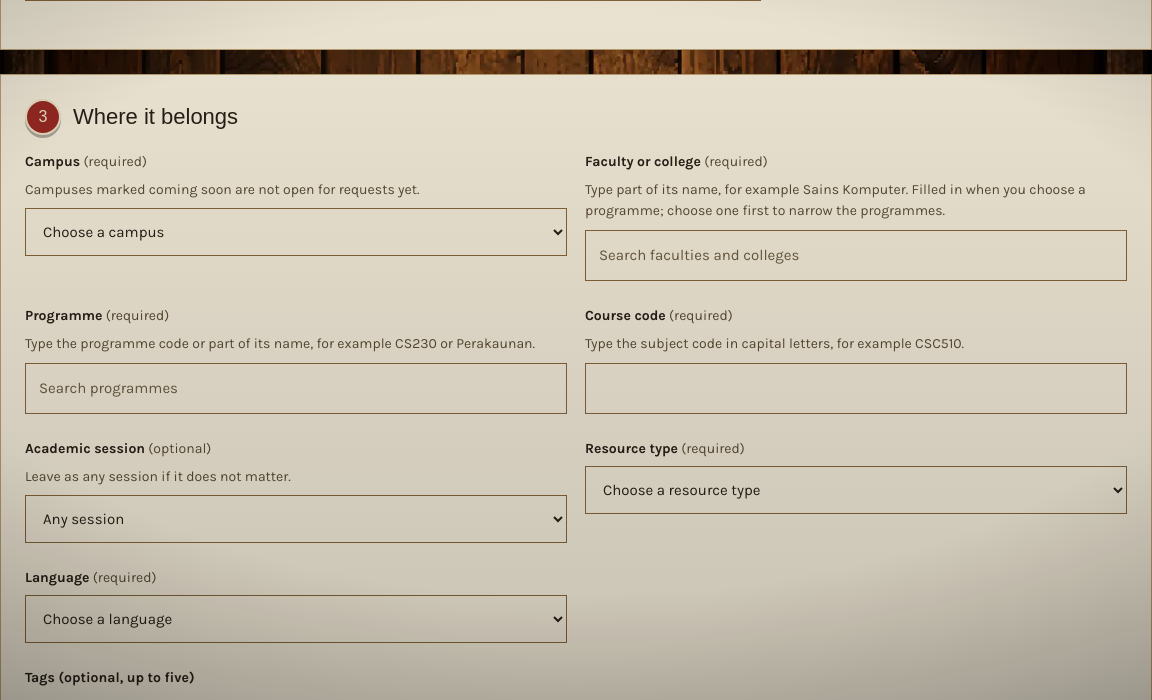
Test: the intake form › fills in the faculty when a programme is chosen directly
(page scrolled)
Type "legal" into the dropdown labelled "Programme (required)" at (296, 388), box [25,363,567,414]
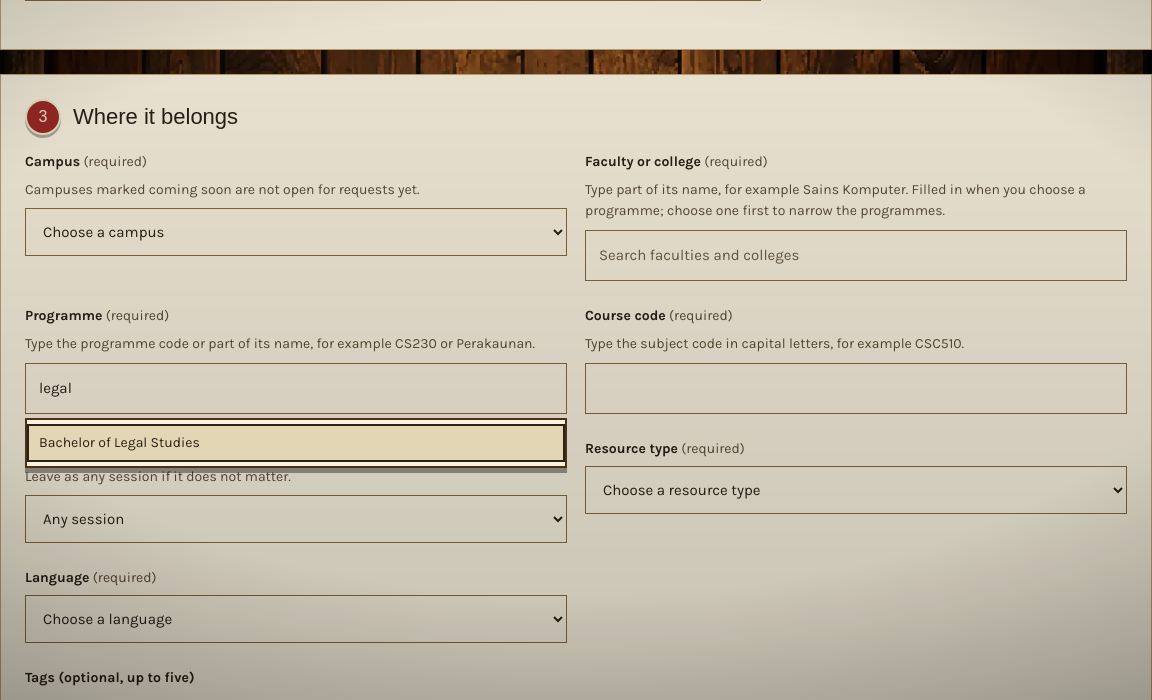
Click the option "Bachelor of Legal Studies" at (119, 442), box [27,424,565,462]
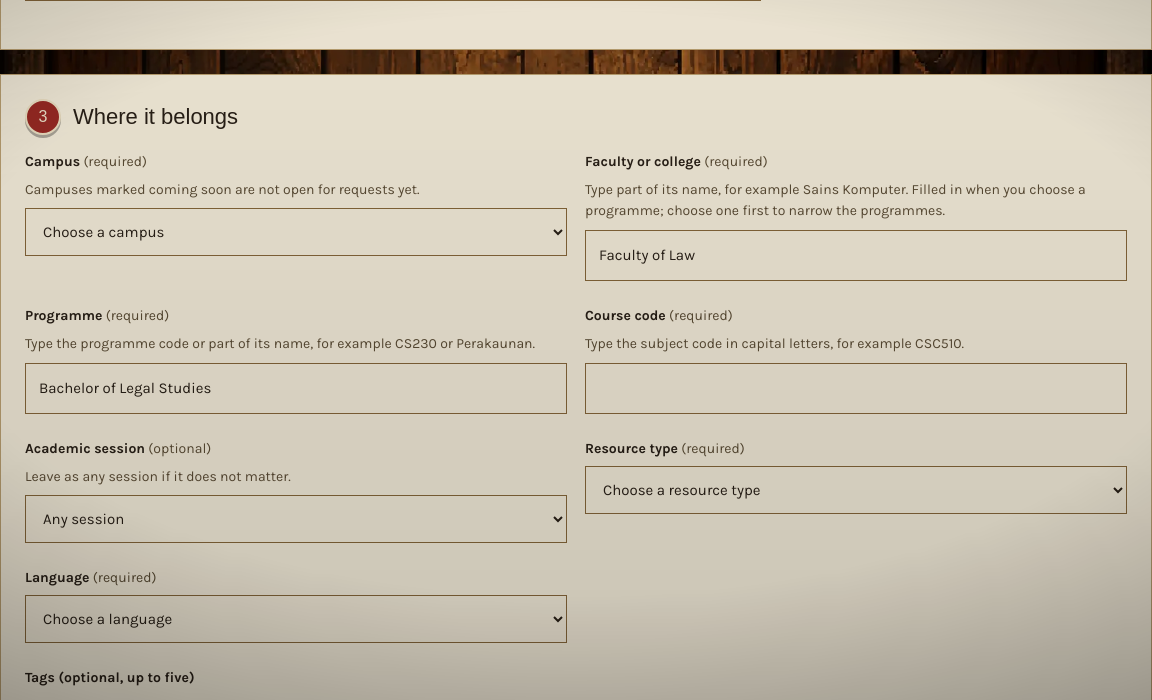
Expected: the dropdown labelled "Faculty or college (required)" holds "Faculty of Law", [585,230,1127,281]
Expected: the dropdown labelled "Programme (required)" holds "Bachelor of Legal Studies", [25,363,567,414]
